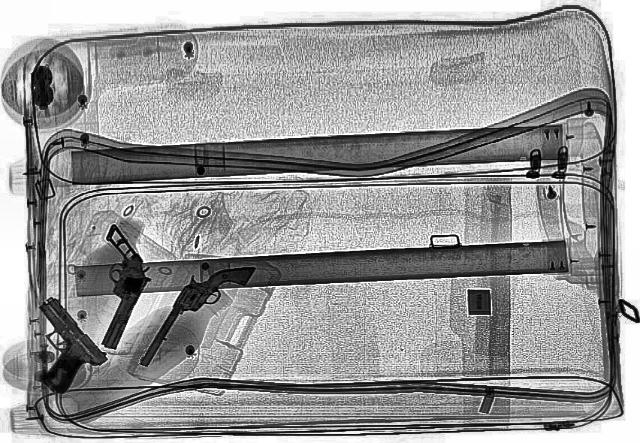Gun: (127, 252, 257, 374), (58, 222, 172, 348), (20, 294, 109, 394)
